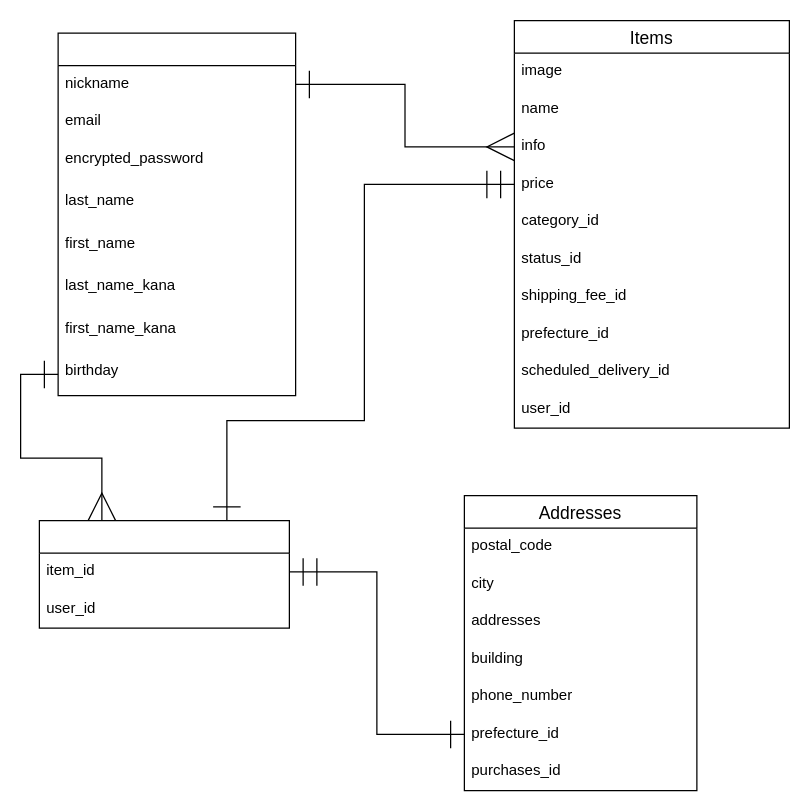
Image size: 810x811. Some labels were removed from this diagram. Here are the shapes that lost their labels. From the top down, the box of each, then its label:
(57, 32, 296, 396): Users
(38, 519, 289, 628): Purchases
